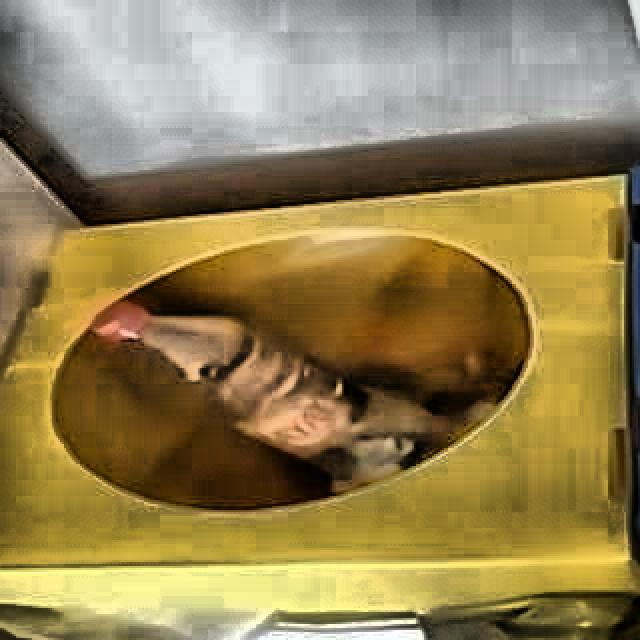plastic: (91, 302, 496, 493)
